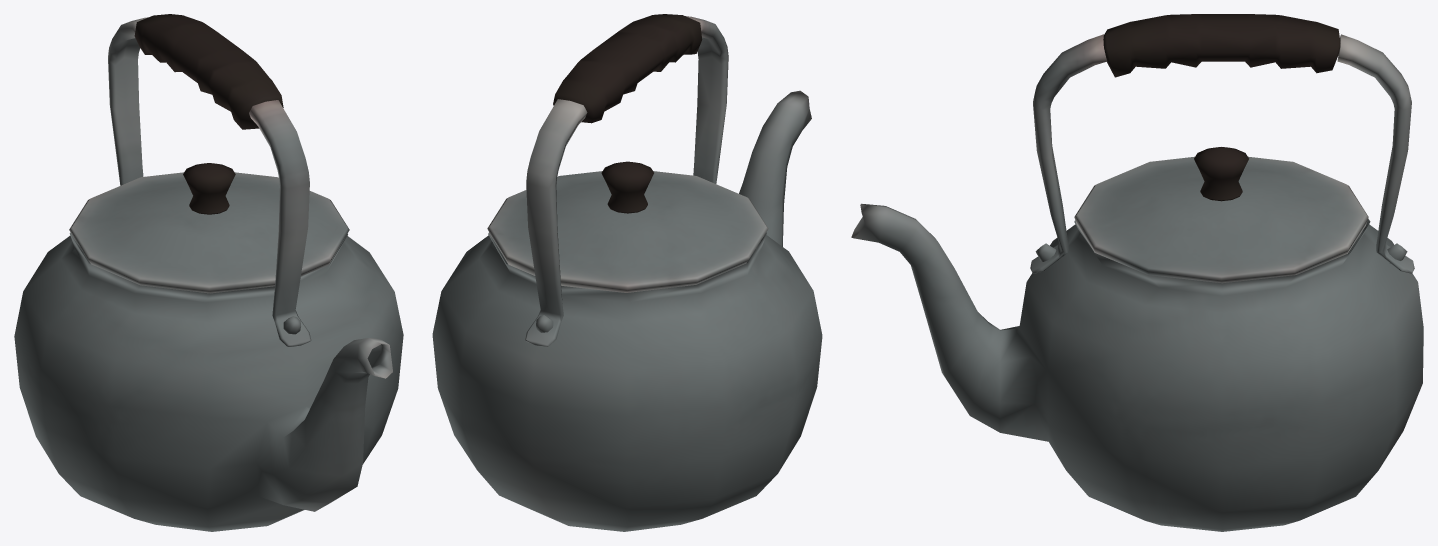
File: old_kettle.fbx
3 views of the same model, side by side, from view 1: azimuth 30°, elevation 25°; view 2: azimuth 150°, elevation 25°; view 3: azimuth 270°, elevation 25° (orthographic). The views are drawn at different scales.
Parts seen in each view (by area): view 1: old kettle(painted); view 2: old kettle(painted); view 3: old kettle(painted).
Part boxes in pixels (left/top/right/bottom): old kettle(painted): left=14, top=14, right=403, bottom=531; old kettle(painted): left=432, top=14, right=822, bottom=531; old kettle(painted): left=851, top=14, right=1423, bottom=531.
Bounding box in the file's own units: 757 × 939 × 1056.
